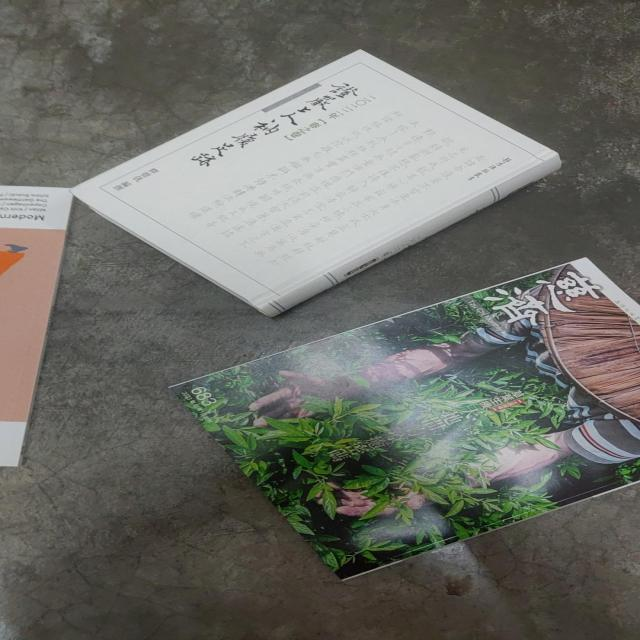paper: (164, 261, 640, 576), (72, 48, 560, 318), (0, 182, 82, 466)
